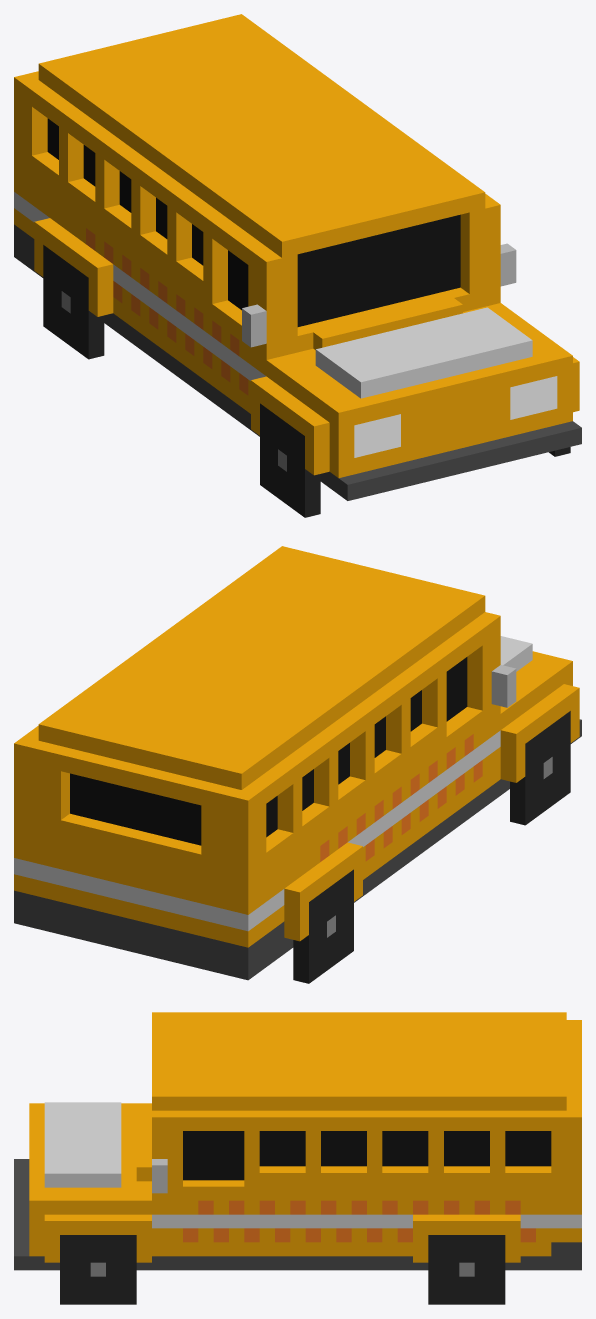
File: schoolbus.obj
3 views of the same model, one above another, from view 1: azimuth 30°, elevation 25°; view 2: azimuth 150°, elevation 25°; view 3: azimuth 270°, elevation 25° (orthographic). The views are drawn at different scales.
Visible parts, largest first — view 1: Untitled; view 2: Untitled; view 3: Untitled.
Boxes of the visible parts, x1,y1,x2,y2 form: Untitled: [14, 14, 581, 517]; Untitled: [14, 546, 581, 983]; Untitled: [14, 1012, 581, 1304].
Bounding box in the file's own units: 1.7 × 1.4 × 3.7.
1 material, 1 textured.
